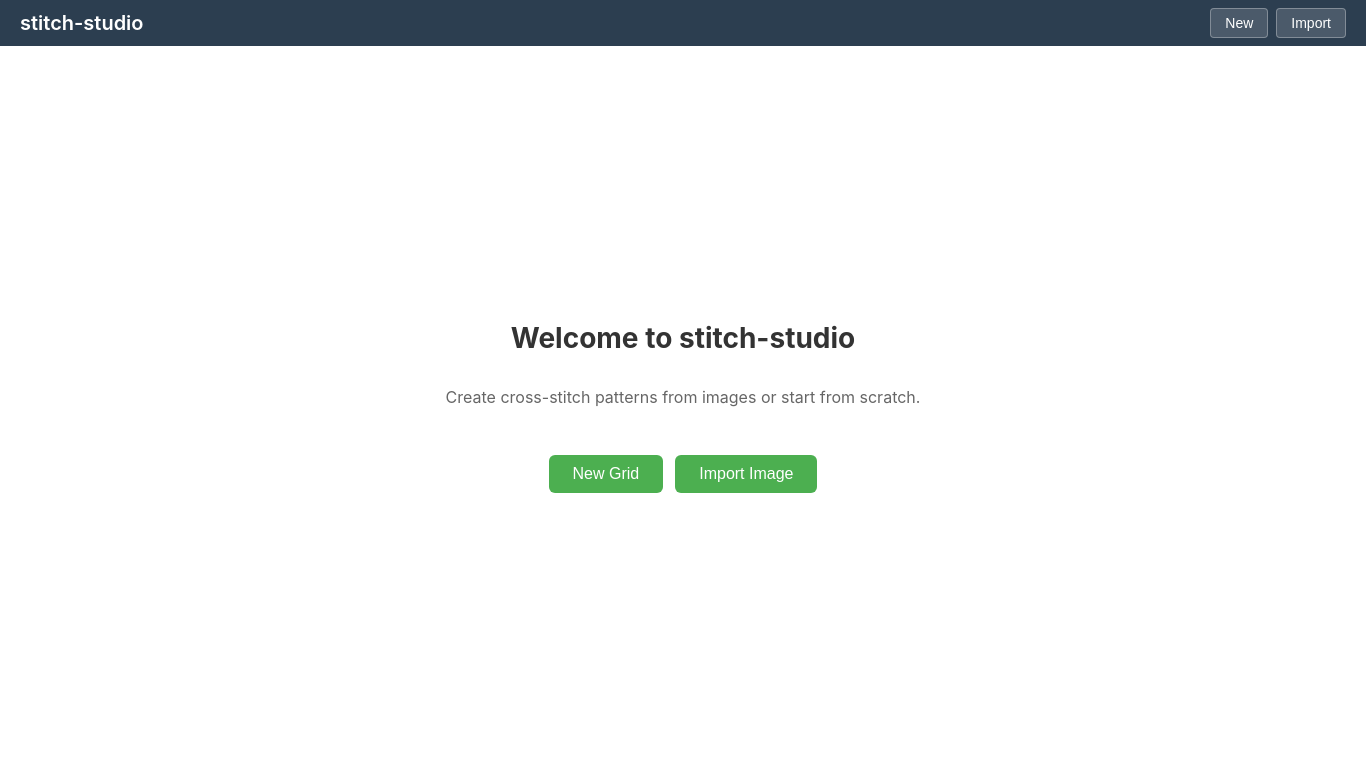
Test: App › opens New Grid modal on button click
// Click "New Grid" in the welcome section
Step 1. Click the button "New Grid" → (606,474), box [548, 455, 663, 493]
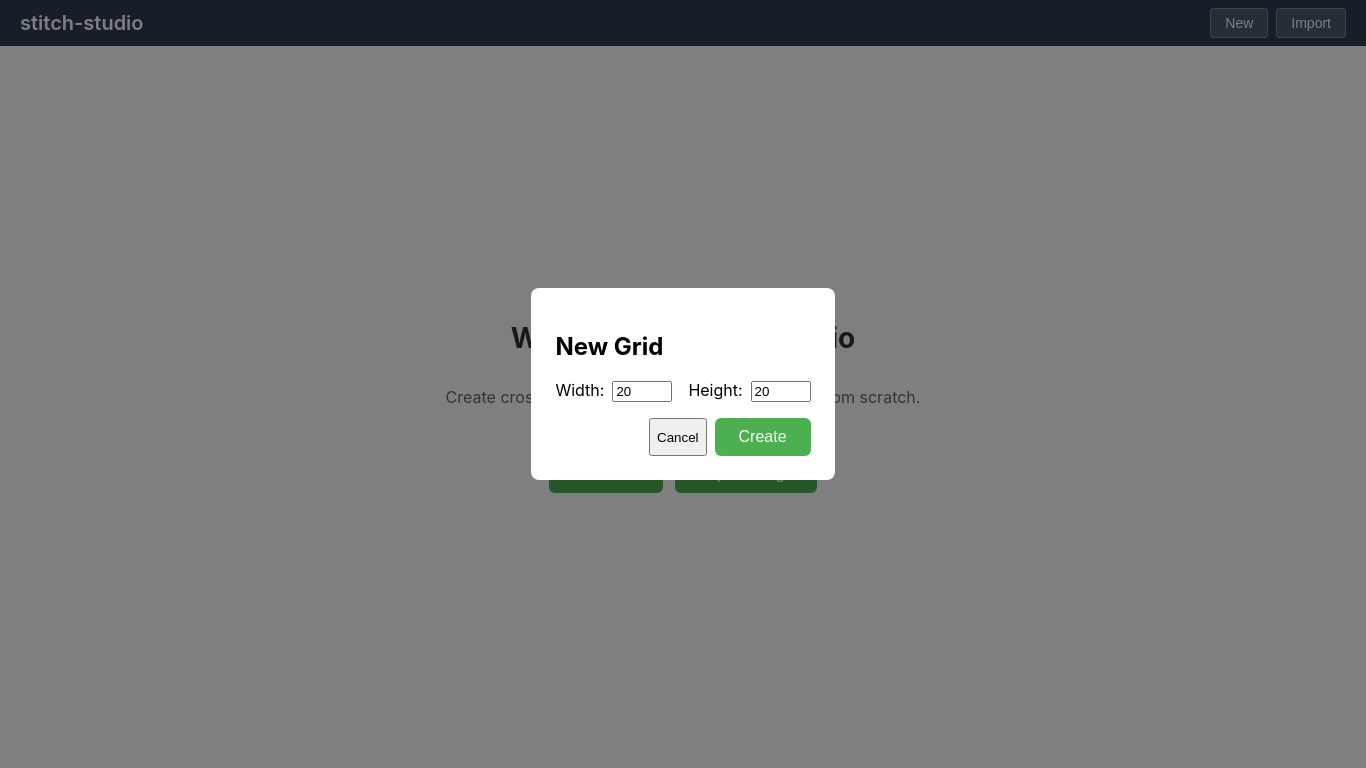
expect the button "Create" is shown: met, box [715, 418, 811, 456]
